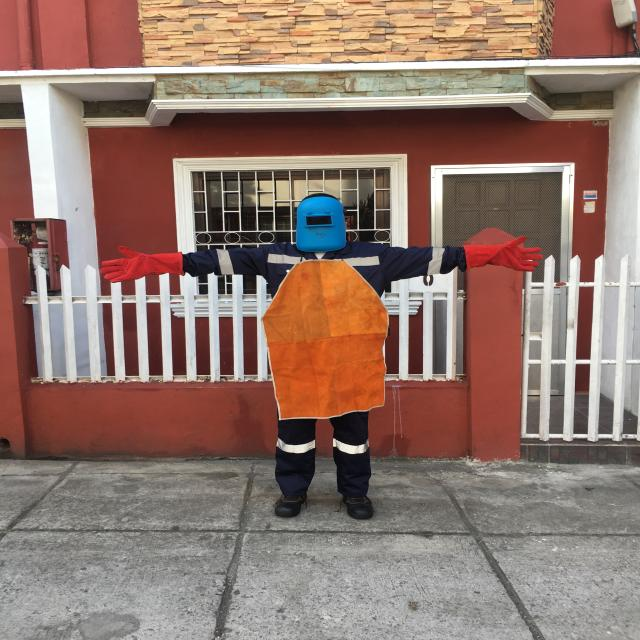with_helmet: (296, 193, 346, 253)
